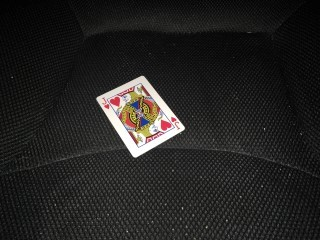JackOfHearts: (94, 75, 187, 159)
